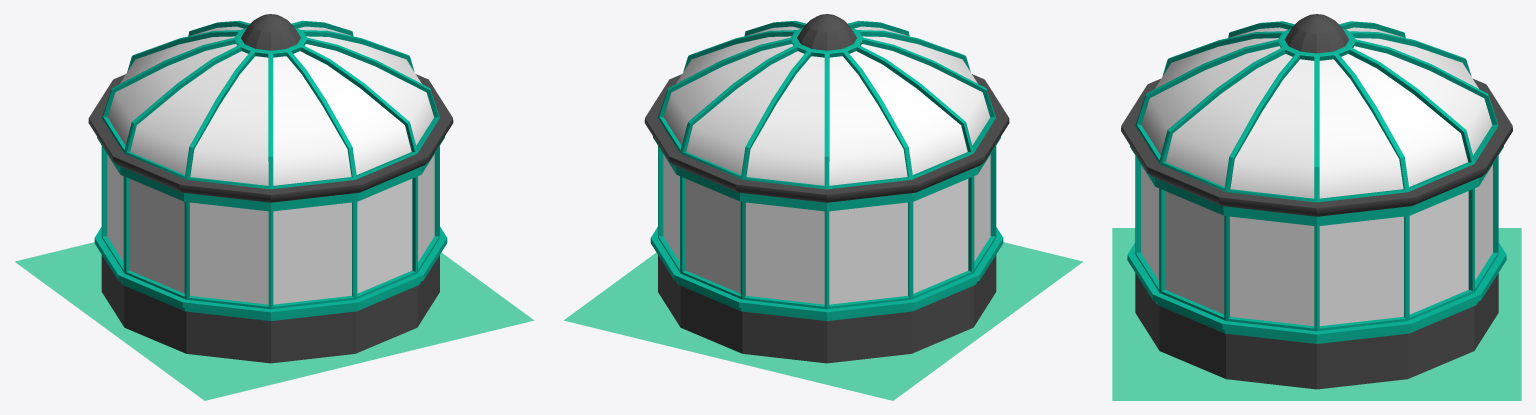
File: greenhouse_green.fbx
The picture shows the model from 3 angles, left to right: view 1: azimuth 30°, elevation 25°; view 2: azimuth 150°, elevation 25°; view 3: azimuth 270°, elevation 25°; orthographic projection. The views are drawn at different scales.
Visible parts, largest first — view 1: greenhouse, ten_ten; view 2: greenhouse, ten_ten; view 3: greenhouse, ten_ten.
Part boxes in pixels (x1,y1,x2,y2): greenhouse: [88, 14, 453, 363]; ten_ten: [15, 242, 534, 400]; greenhouse: [644, 14, 1009, 363]; ten_ten: [563, 242, 1082, 400]; greenhouse: [1121, 14, 1512, 389]; ten_ten: [1112, 228, 1521, 400].
Size of the model in its own units: 10 by 8.04 by 10.
